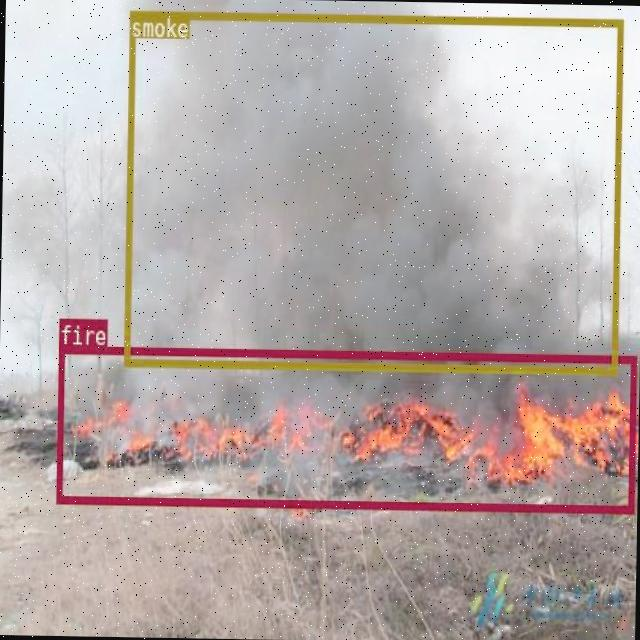fire: (54, 344, 636, 511)
smoke: (122, 9, 622, 374)
